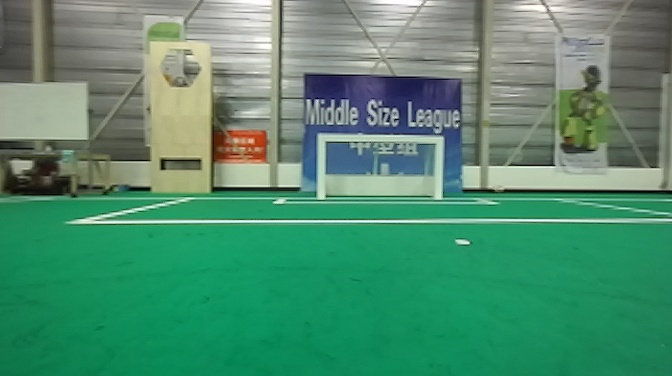ball: (492, 179, 509, 191)
goalpost: (309, 129, 330, 201), (427, 134, 446, 201)
